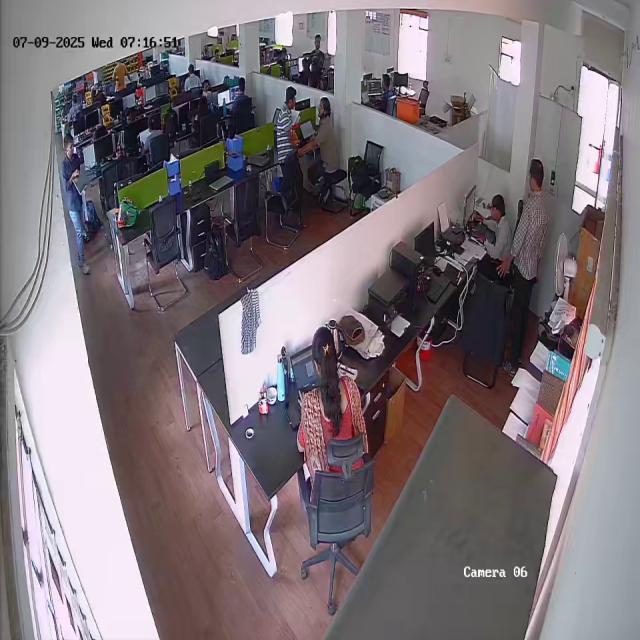person: (295, 326, 362, 459), (510, 158, 550, 368), (59, 133, 91, 276), (277, 86, 305, 226), (315, 96, 339, 172), (484, 193, 510, 261)
